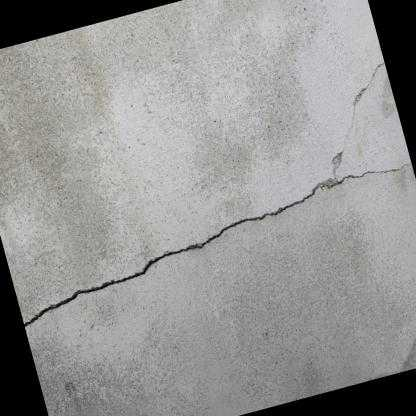crack: (23, 170, 377, 328)
